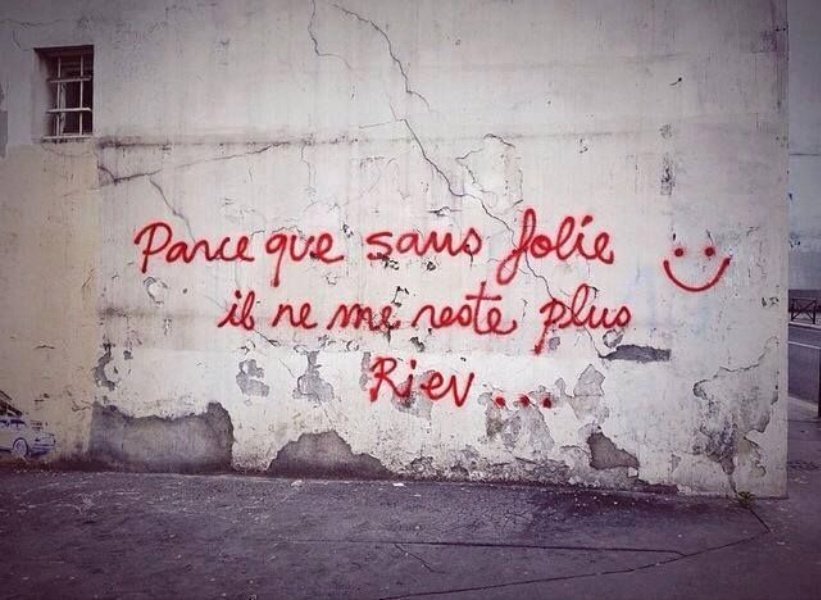text: (529, 206, 544, 288), (545, 206, 560, 288), (561, 206, 576, 288), (577, 206, 592, 288), (593, 206, 608, 288), (545, 280, 560, 359), (561, 280, 576, 359), (577, 280, 592, 359), (593, 280, 608, 359), (609, 280, 624, 359), (241, 217, 257, 274), (273, 231, 288, 290), (289, 231, 304, 290), (305, 231, 320, 290), (321, 231, 336, 290), (129, 217, 144, 274), (145, 217, 160, 274), (161, 217, 176, 274), (177, 217, 192, 274), (193, 217, 208, 274), (209, 217, 224, 274), (225, 217, 240, 274), (433, 279, 448, 336), (449, 279, 464, 336), (465, 279, 480, 336), (481, 279, 496, 336), (497, 279, 512, 336), (385, 354, 400, 408), (401, 354, 416, 408), (417, 354, 432, 408), (433, 354, 448, 408), (449, 354, 464, 408), (609, 206, 618, 288), (673, 245, 688, 294), (689, 245, 704, 294), (705, 245, 720, 294), (371, 354, 384, 408), (465, 354, 478, 408), (241, 289, 257, 330), (625, 280, 633, 359), (721, 245, 733, 294), (661, 245, 672, 294), (263, 231, 272, 290), (337, 231, 346, 290), (369, 226, 384, 261), (385, 226, 400, 261), (401, 226, 416, 261), (417, 226, 432, 261), (433, 226, 448, 261), (449, 226, 464, 261), (465, 226, 480, 261), (305, 301, 321, 331), (289, 301, 304, 331), (353, 303, 368, 331), (369, 303, 384, 331), (385, 303, 400, 331), (513, 279, 520, 336), (339, 303, 352, 331), (524, 206, 528, 288), (279, 301, 288, 331), (497, 395, 512, 408), (513, 395, 528, 408), (529, 395, 544, 408), (401, 303, 407, 331), (364, 226, 368, 261), (237, 289, 240, 330), (126, 217, 128, 274), (430, 279, 432, 336), (545, 395, 552, 408), (481, 226, 483, 261), (494, 395, 496, 408)
